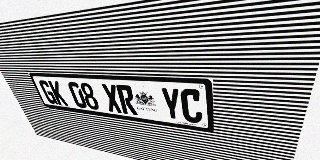0: (67, 82, 88, 109)
8: (79, 82, 100, 110)
C: (180, 88, 203, 124)
G: (38, 80, 58, 105)
K: (48, 81, 68, 106)
R: (116, 85, 138, 115)
X: (101, 84, 123, 113)
Y: (160, 87, 182, 121)
